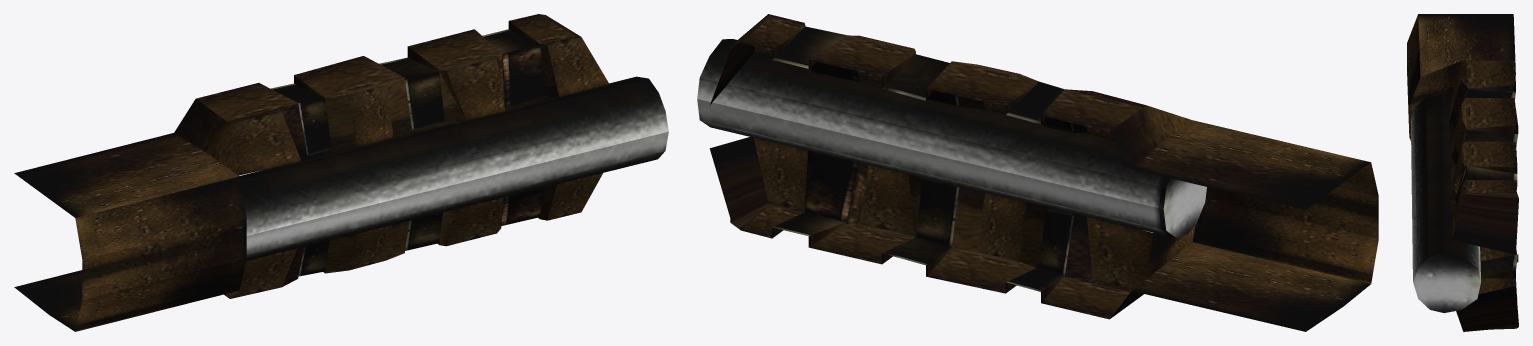
The model's file is v_shot_3.obj.
3 views of the same model, side by side, from view 1: azimuth 30°, elevation 25°; view 2: azimuth 150°, elevation 25°; view 3: azimuth 270°, elevation 25° (orthographic). The views are drawn at different scales.
Bounding box in the file's own units: 13.76 × 3.91 × 2.89.
Materials: 1 (1 with a texture image).
